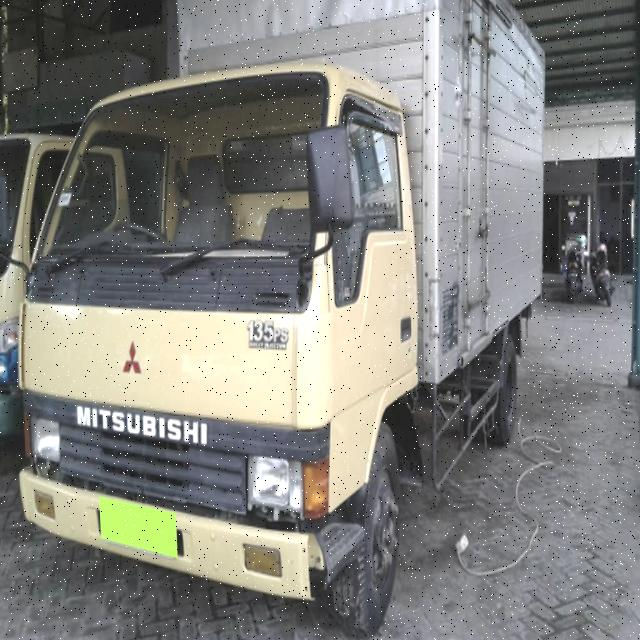truck: (11, 0, 546, 625)
